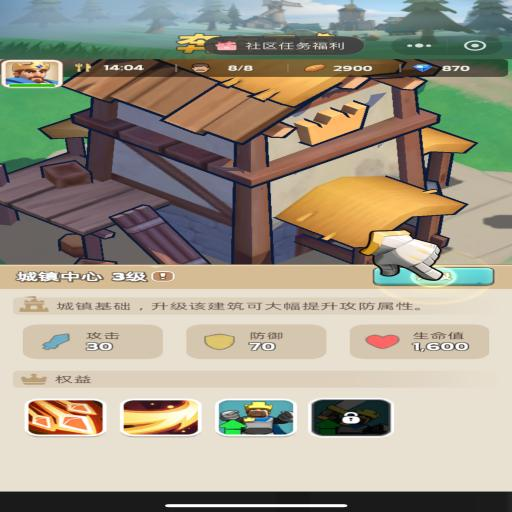newcomer_hand: (357, 229, 441, 270)
